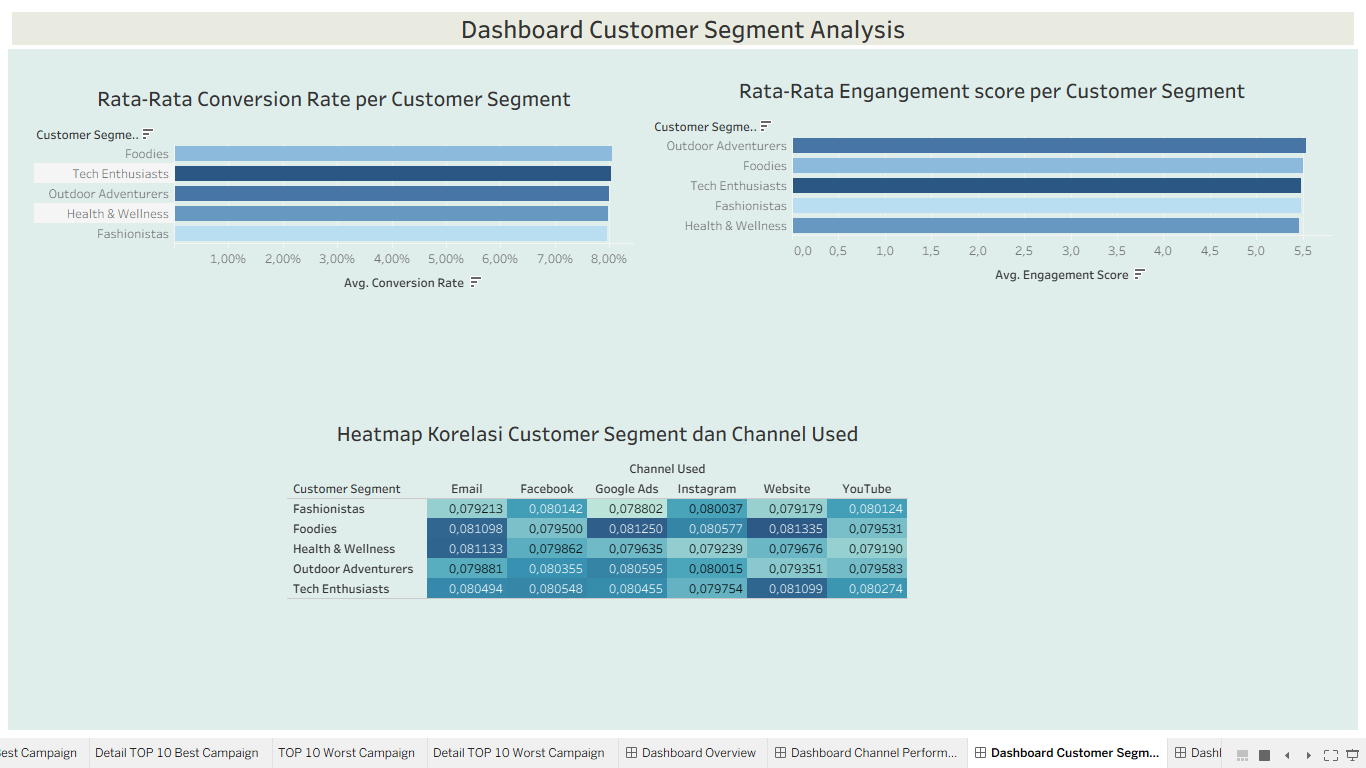

The dashboard page shown, as its layout file describes it:
{"tool":"tableau","page":{"name":"Dashboard Customer Segment Analysis","canvas":[1000,1000],"units":"permille","ordinal":2},"visuals":[{"type":"title","box":[5.9,10.8,988.3,55.6]},{"type":"worksheet","title":"Rata-Rata Engangement score per Customer Segment","mark":"Automatic","rows":["Customer_Segment"],"cols":["Engagement_Score"],"box":[477.1,98,497.8,434.1]},{"type":"worksheet","title":"Rata-Rata Conversion Rate per Customer Segment","mark":"Automatic","rows":["Customer_Segment"],"cols":["Conversion_Rate"],"box":[25.1,108.1,439,425.7]},{"type":"worksheet","title":"Heatmap Korelasi Customer Segment dan Channel Used","mark":"Automatic","rows":["Customer_Segment"],"cols":["Channel_Used"],"box":[210.4,562.5,563.6,363.2]}]}

Visuals, with their boxes on the dashboard's canvas, which has no fixed pixel size, in thousandths of its width and height (x1, y1, x2, y2). These are canvas units, not pixel positions in the 1366x768 screenshot, which may show the page scaled, cropped or inside an application window:
title: <box>6,11,994,66</box>
"Rata-Rata Engangement score per Customer Segment" worksheet: <box>477,98,975,532</box>
"Rata-Rata Conversion Rate per Customer Segment" worksheet: <box>25,108,464,534</box>
"Heatmap Korelasi Customer Segment dan Channel Used" worksheet: <box>210,562,774,926</box>
